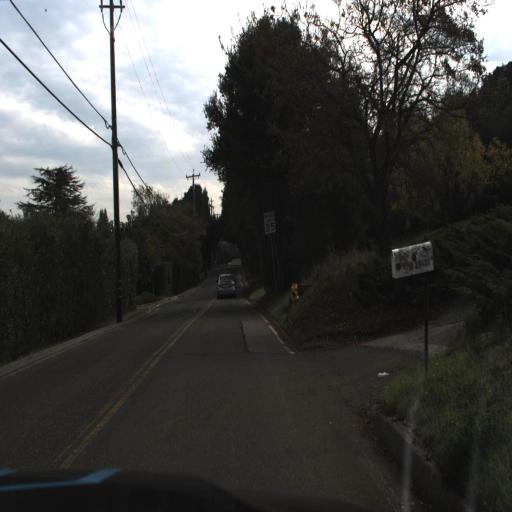car: (213, 268, 241, 303)
